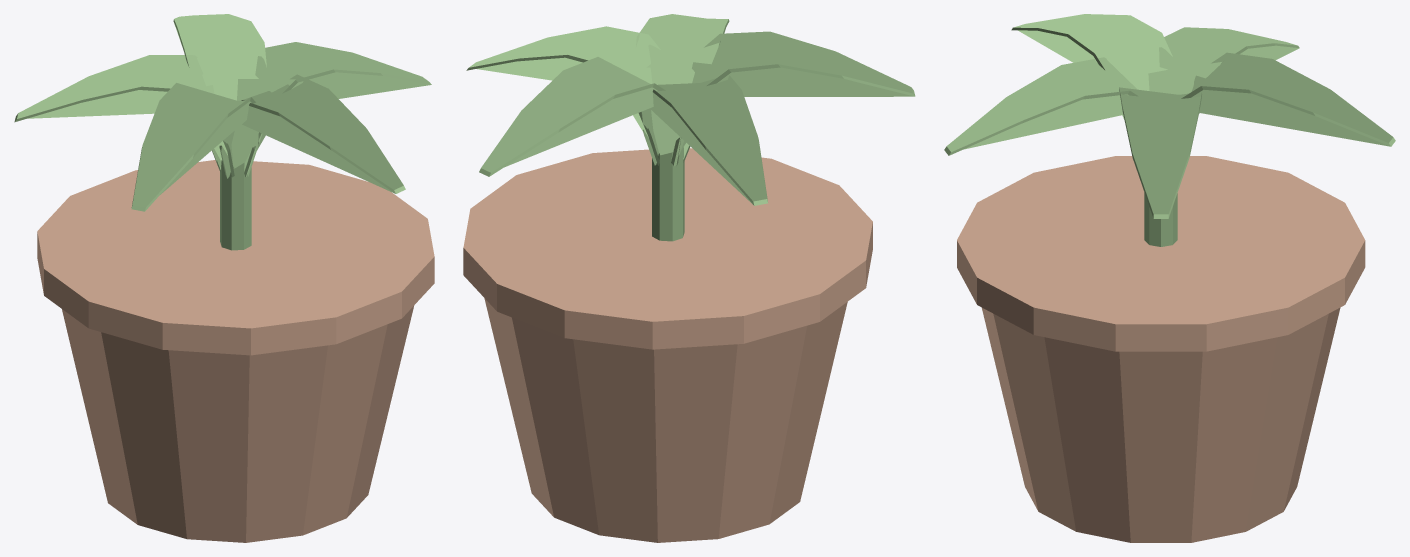
The model's file is 18-Casas_maceta_interior.glb.
3 renders of one model, left to right at view 1: azimuth 30°, elevation 25°; view 2: azimuth 150°, elevation 25°; view 3: azimuth 270°, elevation 25°, orthographic. The views are drawn at different scales.
Visible parts, largest first — view 1: SM_Maceta_M_Mueble_Barro, SM_Maceta_M_Mueble_VerdeHoja; view 2: SM_Maceta_M_Mueble_Barro, SM_Maceta_M_Mueble_VerdeHoja; view 3: SM_Maceta_M_Mueble_Barro, SM_Maceta_M_Mueble_VerdeHoja.
Part boxes in pixels (left/top/right/bottom): SM_Maceta_M_Mueble_Barro: left=37, top=160, right=434, bottom=542; SM_Maceta_M_Mueble_VerdeHoja: left=14, top=14, right=431, bottom=250; SM_Maceta_M_Mueble_Barro: left=463, top=148, right=872, bottom=542; SM_Maceta_M_Mueble_VerdeHoja: left=466, top=14, right=915, bottom=241; SM_Maceta_M_Mueble_Barro: left=957, top=156, right=1365, bottom=542; SM_Maceta_M_Mueble_VerdeHoja: left=944, top=14, right=1395, bottom=246.
Size of the model in its own units: 0.5657 by 0.6219 by 0.5973.
